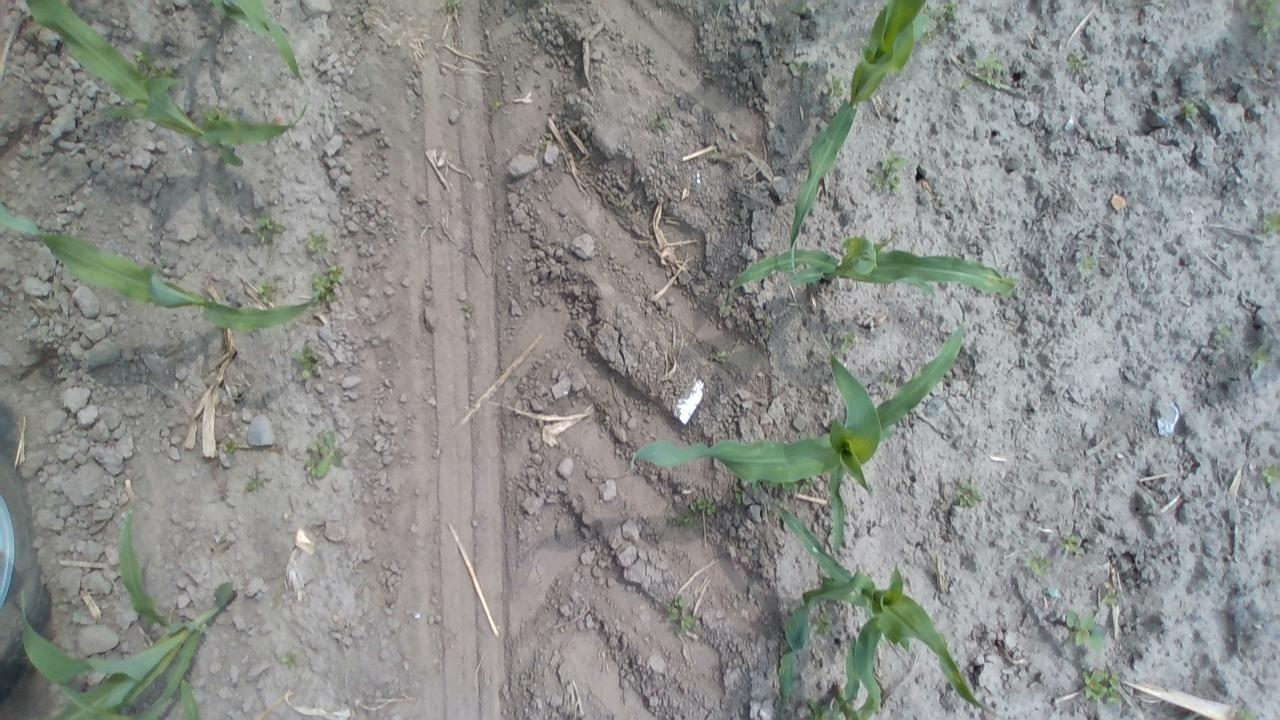Maize: (628, 312, 978, 558), (753, 483, 998, 720), (6, 498, 252, 720), (14, 0, 318, 163), (0, 198, 335, 340), (794, 0, 946, 242), (713, 229, 1030, 308), (186, 0, 309, 88), (792, 663, 923, 720)
Weeds: (1054, 603, 1112, 658), (300, 422, 346, 481), (660, 490, 721, 534), (1076, 661, 1128, 710), (954, 52, 1011, 96), (864, 147, 909, 198), (657, 588, 702, 638), (908, 0, 964, 37), (130, 48, 184, 83), (309, 260, 350, 304), (1242, 0, 1280, 47), (246, 208, 293, 243), (289, 336, 326, 380), (950, 474, 989, 513), (760, 472, 811, 499), (1093, 576, 1128, 612), (1063, 50, 1098, 85), (1020, 550, 1058, 582), (1222, 697, 1269, 720), (198, 106, 243, 130), (819, 68, 846, 105), (1244, 340, 1274, 373), (302, 229, 336, 258), (780, 57, 816, 82), (1180, 95, 1210, 124), (1058, 530, 1086, 561), (255, 274, 280, 308), (1072, 252, 1102, 280), (1256, 459, 1280, 492), (1214, 317, 1240, 346), (276, 646, 304, 672), (811, 607, 836, 636), (242, 469, 270, 494), (1257, 208, 1280, 237), (728, 480, 752, 507), (220, 436, 243, 463), (484, 90, 506, 114), (504, 368, 527, 389), (707, 342, 728, 365), (456, 298, 477, 320), (652, 112, 672, 134), (437, 0, 468, 11), (536, 138, 554, 153)
